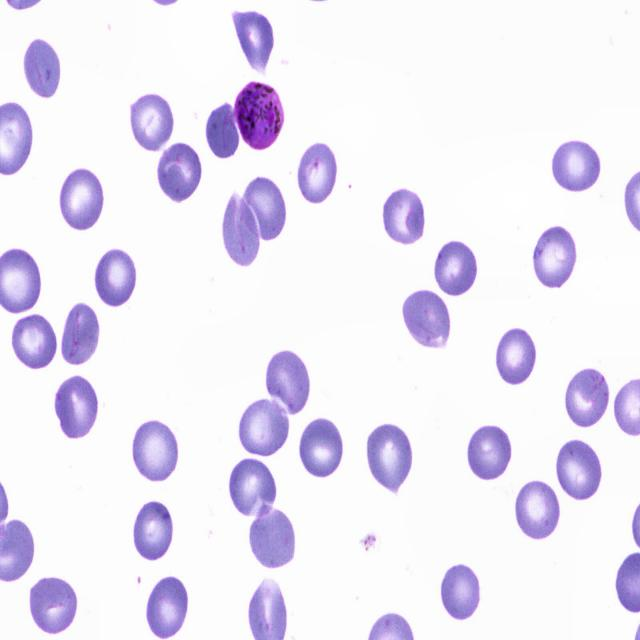difficult: (234, 81, 285, 150)
red blood cell: (364, 422, 416, 492), (130, 416, 182, 486), (264, 348, 314, 417), (246, 505, 298, 571), (52, 371, 100, 442), (57, 166, 107, 233), (27, 575, 80, 638), (238, 176, 288, 242), (532, 223, 580, 291), (227, 455, 278, 519), (555, 434, 604, 500), (155, 142, 205, 204), (128, 91, 176, 154), (298, 416, 346, 479), (59, 299, 102, 369), (466, 422, 516, 482), (144, 574, 190, 639), (92, 247, 140, 309), (296, 140, 341, 206), (222, 190, 260, 268), (402, 290, 453, 348), (382, 184, 428, 248), (514, 480, 563, 540), (10, 312, 59, 371), (433, 238, 481, 298), (239, 399, 290, 455), (564, 367, 610, 428), (232, 11, 274, 74), (496, 327, 540, 387), (134, 502, 176, 564), (552, 140, 601, 193), (22, 37, 62, 101), (440, 563, 483, 620), (203, 101, 241, 159)
